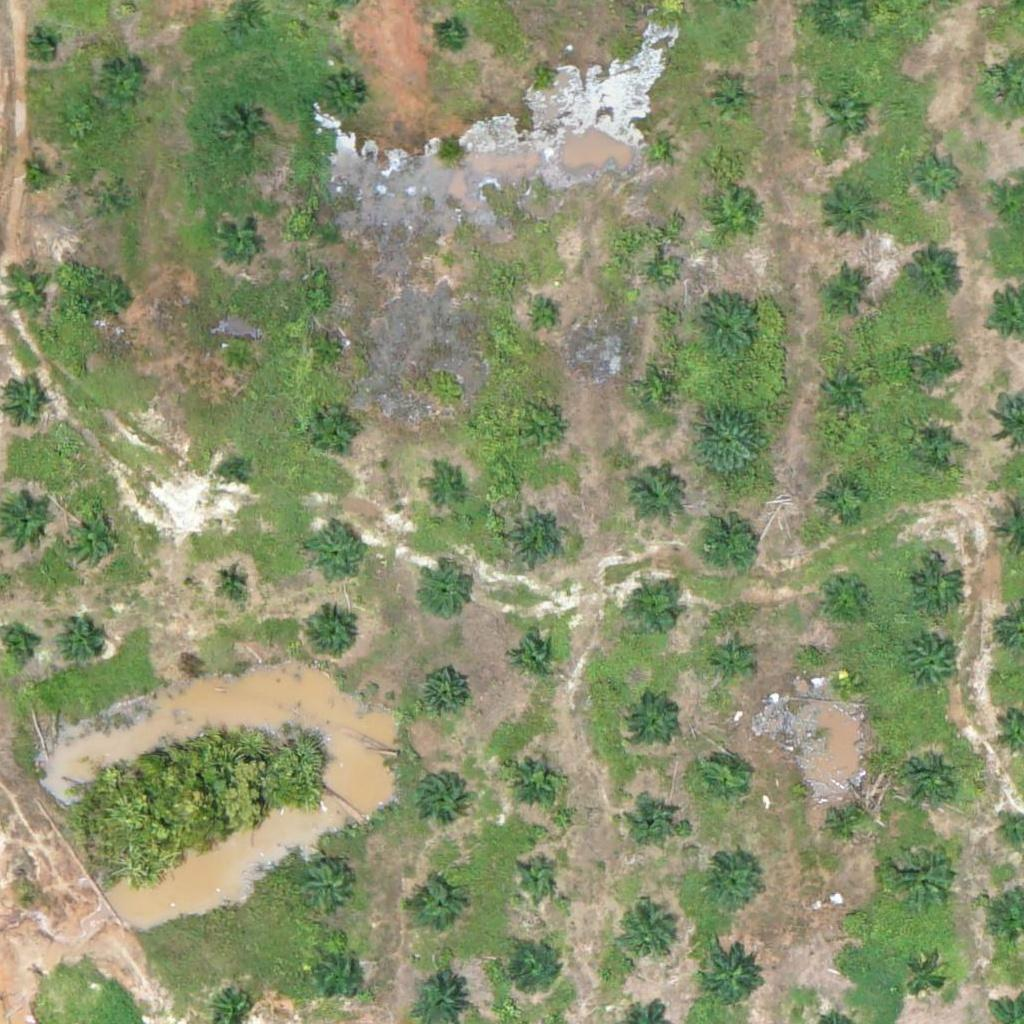Kelapa_Sawit: (688, 288, 763, 364), (692, 506, 767, 582), (887, 832, 962, 908), (692, 402, 767, 478), (621, 461, 684, 524), (906, 557, 969, 620), (506, 507, 569, 570), (822, 181, 885, 244), (901, 250, 964, 313), (60, 508, 123, 571), (700, 941, 762, 1004), (618, 904, 680, 967), (898, 749, 960, 812), (697, 851, 759, 914), (300, 604, 362, 667), (504, 746, 566, 809), (304, 522, 366, 585), (903, 636, 965, 698), (90, 273, 140, 324), (511, 943, 561, 994), (409, 880, 459, 931), (420, 566, 470, 617), (303, 865, 353, 916), (314, 948, 364, 999), (417, 667, 467, 718), (508, 631, 558, 682), (310, 403, 360, 454), (913, 150, 963, 201), (821, 92, 871, 143), (3, 267, 53, 318), (629, 792, 679, 842), (632, 586, 682, 636), (628, 696, 678, 746), (818, 569, 868, 619), (817, 473, 867, 523), (695, 752, 745, 802), (414, 770, 464, 820), (710, 194, 760, 244), (899, 955, 949, 1005), (822, 795, 872, 845), (911, 339, 961, 389), (913, 423, 963, 473), (819, 359, 869, 409), (824, 264, 874, 314), (706, 77, 756, 127), (58, 616, 108, 666), (321, 74, 371, 124), (218, 213, 268, 263), (218, 106, 268, 156), (98, 62, 148, 112), (710, 642, 748, 680), (423, 472, 461, 510), (528, 415, 565, 453), (517, 859, 554, 897), (215, 563, 252, 601), (219, 339, 257, 376), (93, 184, 131, 221), (312, 333, 349, 371), (438, 23, 463, 49), (650, 379, 675, 405), (643, 134, 668, 159), (648, 262, 673, 287), (531, 305, 556, 330), (531, 61, 556, 86), (831, 670, 856, 695), (838, 905, 863, 930), (221, 460, 246, 485), (29, 33, 54, 58), (22, 163, 47, 188), (437, 250, 462, 275)
